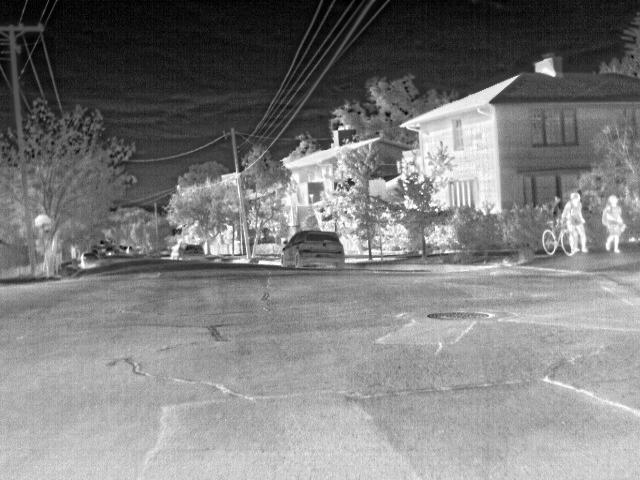car: (278, 229, 345, 272), (179, 244, 199, 260), (82, 250, 99, 267), (92, 248, 104, 260), (104, 246, 117, 257)
person: (564, 189, 589, 255), (602, 192, 625, 254)
